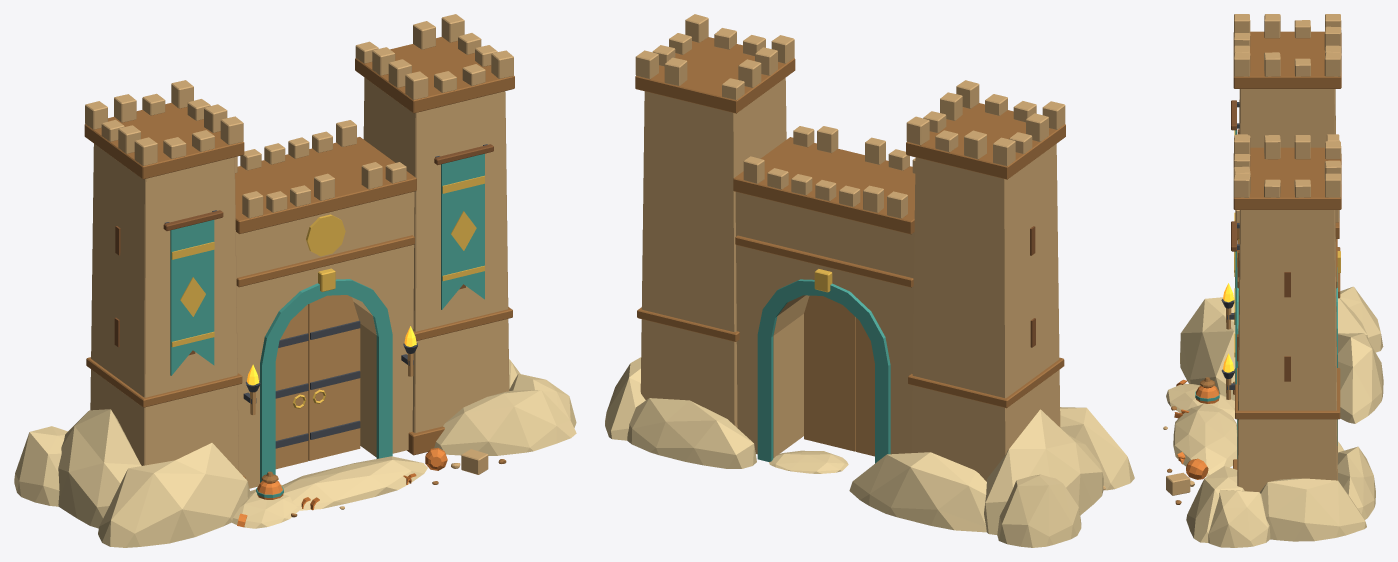
The model's file is desert-city-gate.glb.
The picture shows the model from 3 angles, left to right: view 1: azimuth 30°, elevation 25°; view 2: azimuth 150°, elevation 25°; view 3: azimuth 270°, elevation 25°; orthographic projection. The views are drawn at different scales.
Parts seen in each view (by area): view 1: Tower_L, Tower_R, Gatehouse, Sand_FrontL, Gate_Right, Gatehouse_Cap, ArchFrame_Front, Sand_FrontR, Sand_SideL, Banner_L, Banner_R, Gate_Left (+11 smaller); view 2: Tower_L, Tower_R, Gatehouse, Sand_BackL, Gatehouse_Cap, Gate_Right, Sand_SideL, ArchFrame_Back, Sand_BackR, Tower_R_Cap, Sand_CornerL, Tower_L_Cap (+7 smaller); view 3: Tower_R, Sand_SideR, Tower_L, Tower_R_Cap, Tower_L_Cap, Sand_FrontL, Sand_BackL, Sand_Gate, Sand_CornerR, Sand_FrontR, Sand_BackR, Tower_R_Band (+23 smaller).
Part boxes in pixels (bbox=[...]): Tower_L: bbox=[90, 144, 238, 470]; Tower_R: bbox=[363, 77, 509, 432]; Gatehouse: bbox=[236, 191, 414, 488]; Sand_FrontL: bbox=[98, 443, 250, 547]; Gate_Right: bbox=[308, 295, 360, 460]; Gatehouse_Cap: bbox=[235, 137, 416, 233]; ArchFrame_Front: bbox=[260, 279, 392, 482]; Sand_FrontR: bbox=[434, 390, 576, 455]; Sand_SideL: bbox=[58, 409, 141, 528]; Banner_L: bbox=[170, 220, 214, 375]; Banner_R: bbox=[441, 153, 484, 309]; Gate_Left: bbox=[275, 304, 308, 469]; Tower_L: bbox=[911, 144, 1060, 481]; Tower_R: bbox=[640, 78, 786, 427]; Gatehouse: bbox=[735, 192, 914, 457]; Sand_BackL: bbox=[849, 452, 986, 532]; Gatehouse_Cap: bbox=[733, 137, 915, 234]; Gate_Right: bbox=[804, 295, 855, 451]; Sand_SideL: bbox=[984, 409, 1103, 534]; ArchFrame_Back: bbox=[757, 279, 890, 463]; Sand_BackR: bbox=[627, 398, 756, 468]; Tower_R_Cap: bbox=[635, 37, 795, 113]; Sand_CornerL: bbox=[997, 474, 1081, 547]; Tower_L_Cap: bbox=[906, 103, 1065, 179]; Tower_R: bbox=[1237, 210, 1337, 492]; Sand_SideR: bbox=[1260, 478, 1366, 541]; Tower_L: bbox=[1239, 89, 1335, 147]; Tower_R_Cap: bbox=[1233, 153, 1341, 209]; Tower_L_Cap: bbox=[1233, 31, 1341, 88]; Sand_FrontL: bbox=[1180, 297, 1235, 400]; Sand_BackL: bbox=[1338, 333, 1383, 423]; Sand_Gate: bbox=[1173, 403, 1236, 476]; Sand_CornerR: bbox=[1208, 489, 1270, 547]; Sand_FrontR: bbox=[1186, 466, 1244, 542]; Sand_BackR: bbox=[1337, 446, 1375, 519]; Tower_R_Band: bbox=[1235, 368, 1340, 419].
Bounding box in the file's own units: 62.05 × 44.95 × 26.16.
